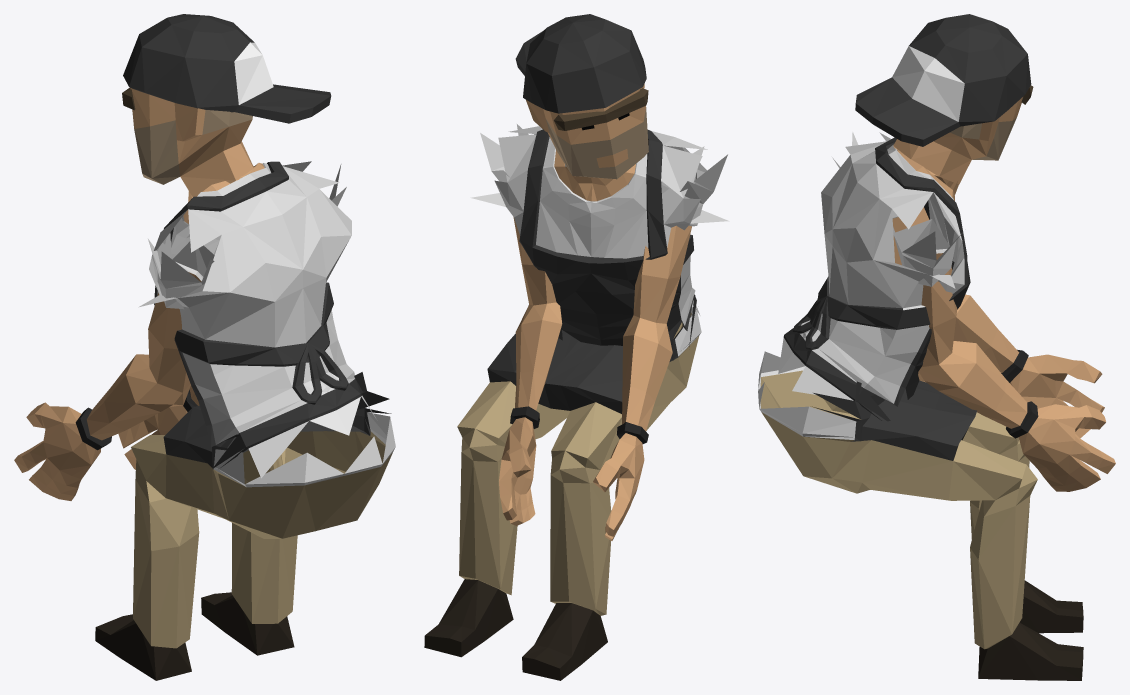
Rendered from Cop_kneeling.obj.
The picture shows the model from 3 angles, left to right: view 1: azimuth 30°, elevation 25°; view 2: azimuth 150°, elevation 25°; view 3: azimuth 270°, elevation 25°; orthographic projection. The views are drawn at different scales.
Parts seen in each view (by area): view 1: Cop_kneeling; view 2: Cop_kneeling; view 3: Cop_kneeling.
Boxes of the visible parts, box(x1,y1,x2,y2) form: Cop_kneeling: box(14, 14, 395, 680); Cop_kneeling: box(424, 14, 729, 680); Cop_kneeling: box(758, 14, 1115, 680).
Bounding box in the file's own units: 0.5399 × 1.43 × 0.7622.
1 material, 1 textured.
